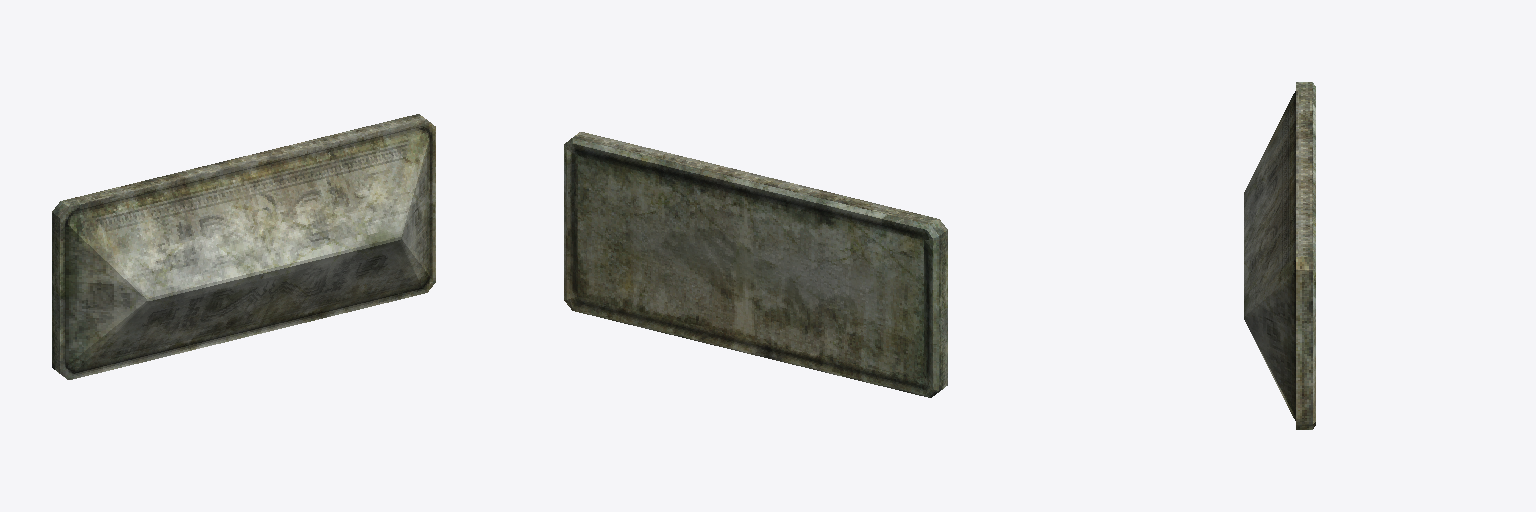
3 views of the same model, side by side, from view 1: azimuth 30°, elevation 25°; view 2: azimuth 150°, elevation 25°; view 3: azimuth 270°, elevation 25° (orthographic).
Visible parts, largest first — view 1: tdr_d_sarco_cover; view 2: tdr_d_sarco_cover; view 3: tdr_d_sarco_cover.
Part boxes in pixels (bbox=[...]): tdr_d_sarco_cover: bbox=[52, 114, 435, 379]; tdr_d_sarco_cover: bbox=[564, 132, 947, 397]; tdr_d_sarco_cover: bbox=[1244, 82, 1315, 429].
Bounding box in the file's own units: 1082 × 477 × 181.
Materials: 1 (1 with a texture image).